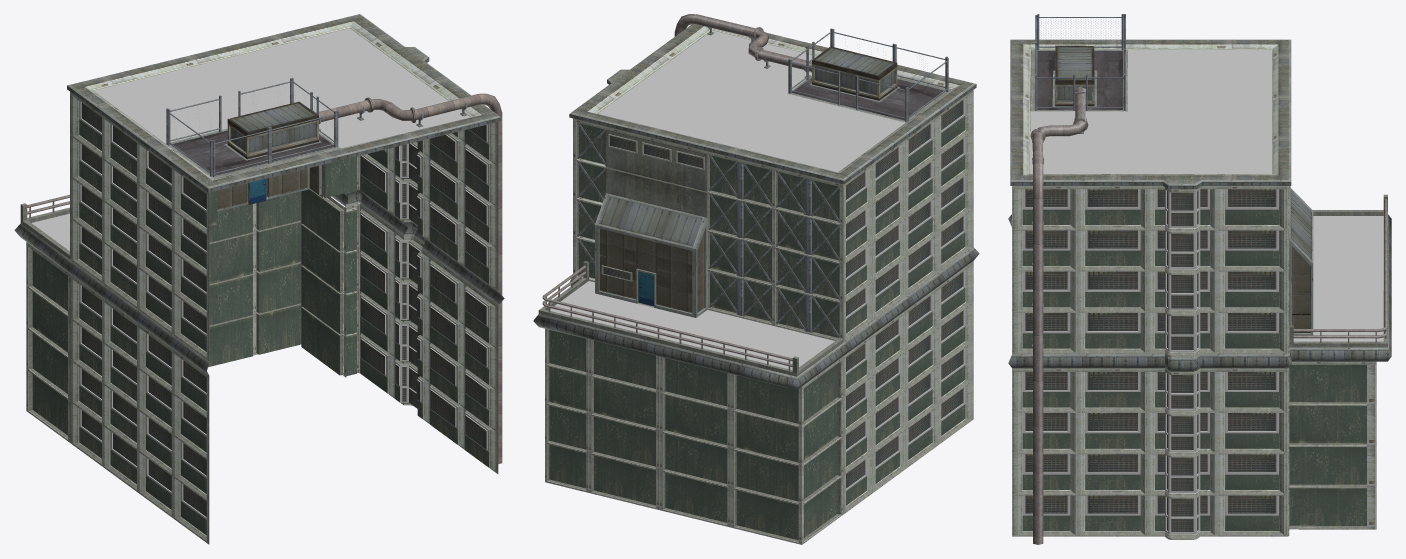
Rendered from Building_20.fbx.
The picture shows the model from 3 angles, left to right: view 1: azimuth 30°, elevation 25°; view 2: azimuth 150°, elevation 25°; view 3: azimuth 270°, elevation 25°; orthographic projection. The views are drawn at different scales.
Parts seen in each view (by area): view 1: Building_20; view 2: Building_20; view 3: Building_20.
Boxes of the visible parts, <box> form: Building_20: <box>14,14,504,544</box>; Building_20: <box>533,14,979,544</box>; Building_20: <box>1008,14,1391,544</box>.
Size of the model in its own units: 1966 by 2368 by 2114.
